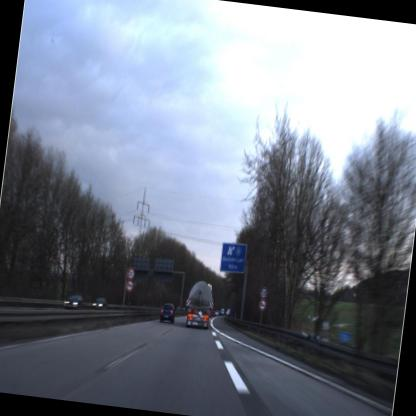prohibitory: (256, 298, 268, 318), (257, 282, 270, 300), (121, 278, 135, 294), (124, 262, 136, 280)
